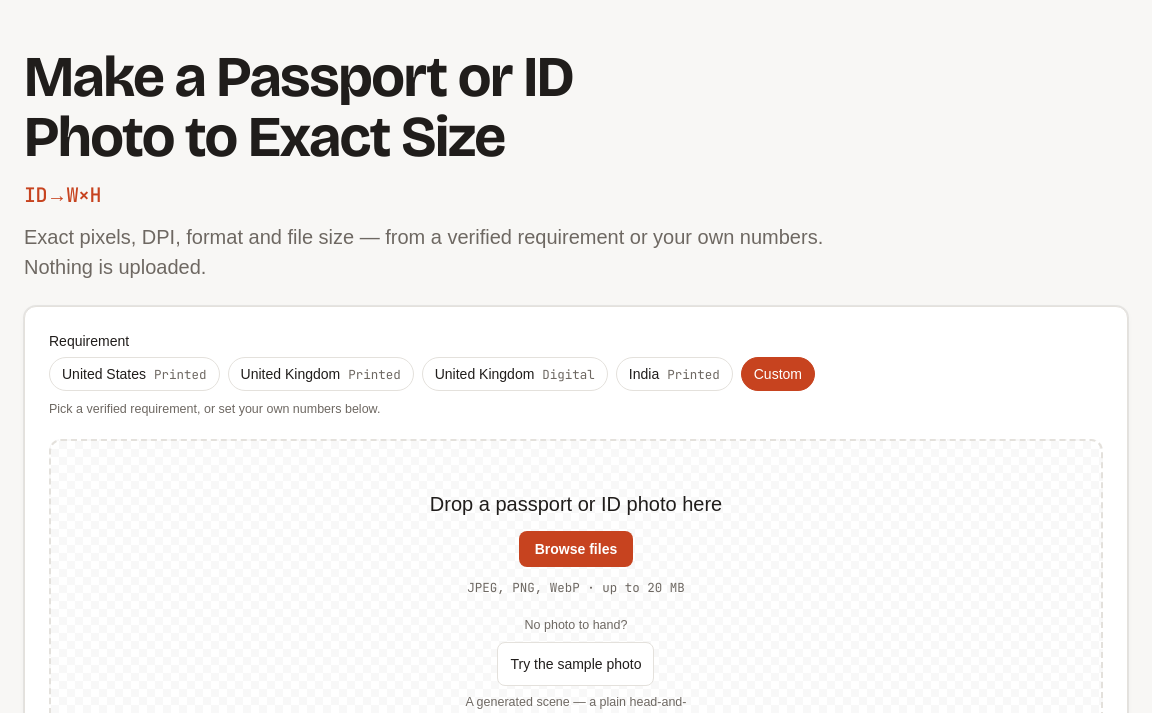
the preset chip fills the fields › fills width, height and unit in pixels from a digital preset
Click the button "United Kingdom Digital".
click(515, 374)  # box x1=422 y1=357 x2=608 y2=391
(page scrolled)
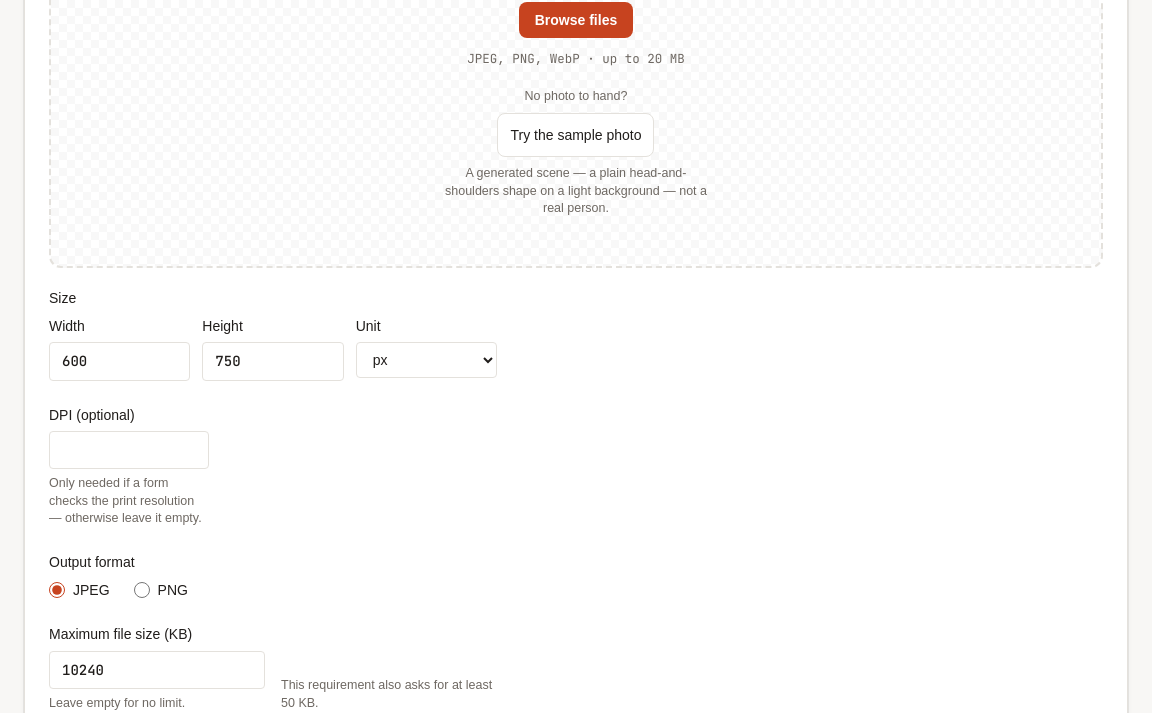
Expected: the dropdown labelled "Unit" shows "px", x1=356 y1=342 x2=497 y2=378
Expected: the number field labelled "Width" holds "600", x1=49 y1=342 x2=190 y2=381
Expected: the number field labelled "Height" holds "750", x1=202 y1=342 x2=344 y2=381
